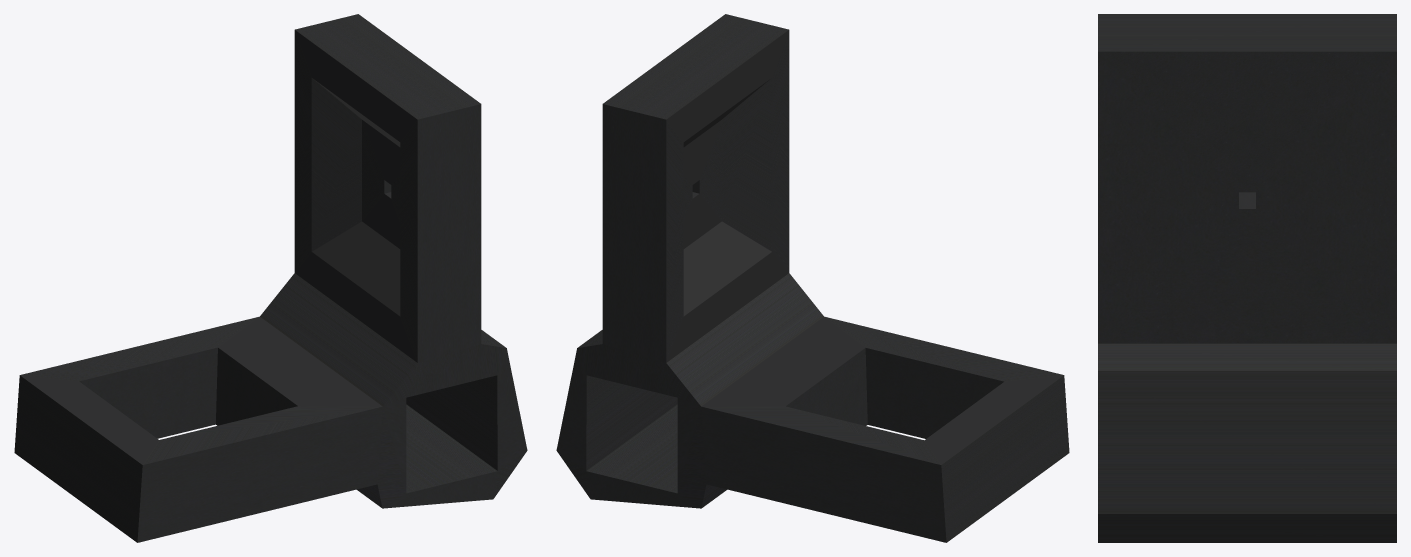
The model's file is Sight_Aperture.dae.
3 renders of one model, left to right at view 1: azimuth 30°, elevation 25°; view 2: azimuth 150°, elevation 25°; view 3: azimuth 270°, elevation 25°, orthographic. The views are drawn at different scales.
Visible parts, largest first — view 1: Sight_Aperture; view 2: Sight_Aperture; view 3: Sight_Aperture.
Part boxes in pixels (x1,y1,x2,y2): Sight_Aperture: [14, 14, 527, 542]; Sight_Aperture: [556, 14, 1069, 542]; Sight_Aperture: [1098, 14, 1396, 542].
Size of the model in its own units: 0.0168 by 0.0092 by 0.0164.
1 material, 1 textured.
